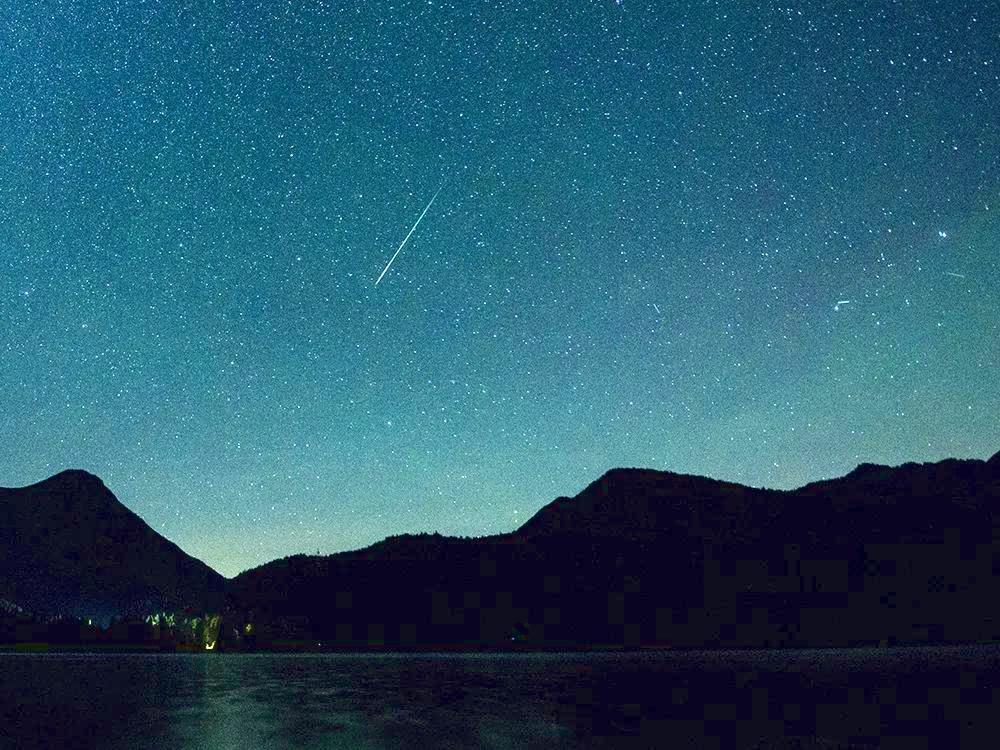meteorite: (359, 187, 476, 298)
